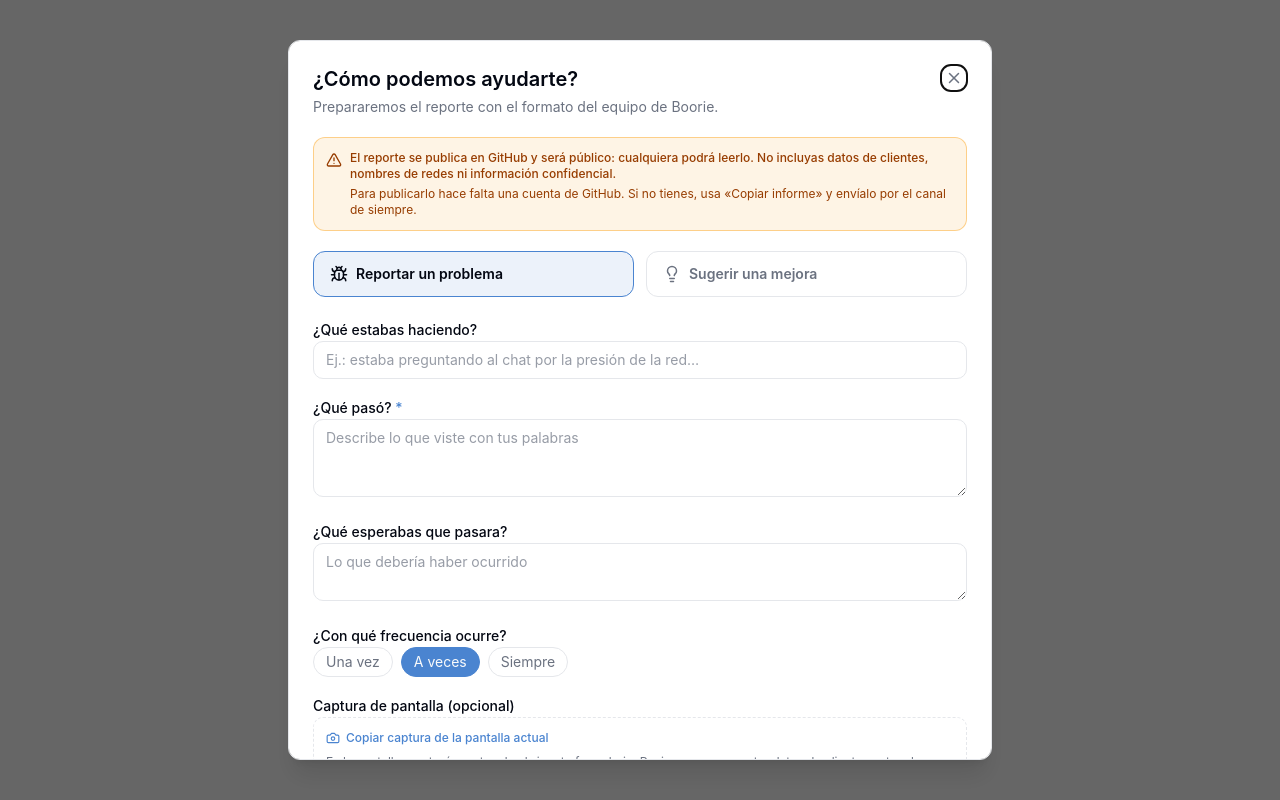
Test case: DialogoAyuda › «Abrir en GitHub» manda el formulario, la consentida y la pantalla de origen al main (R4, R10, R25)
Type "Abría una red" into the field with placeholder "Ej.: estaba preguntando al chat por la presión de la red…" at (640, 360), box left=313, top=341, right=967, bottom=379
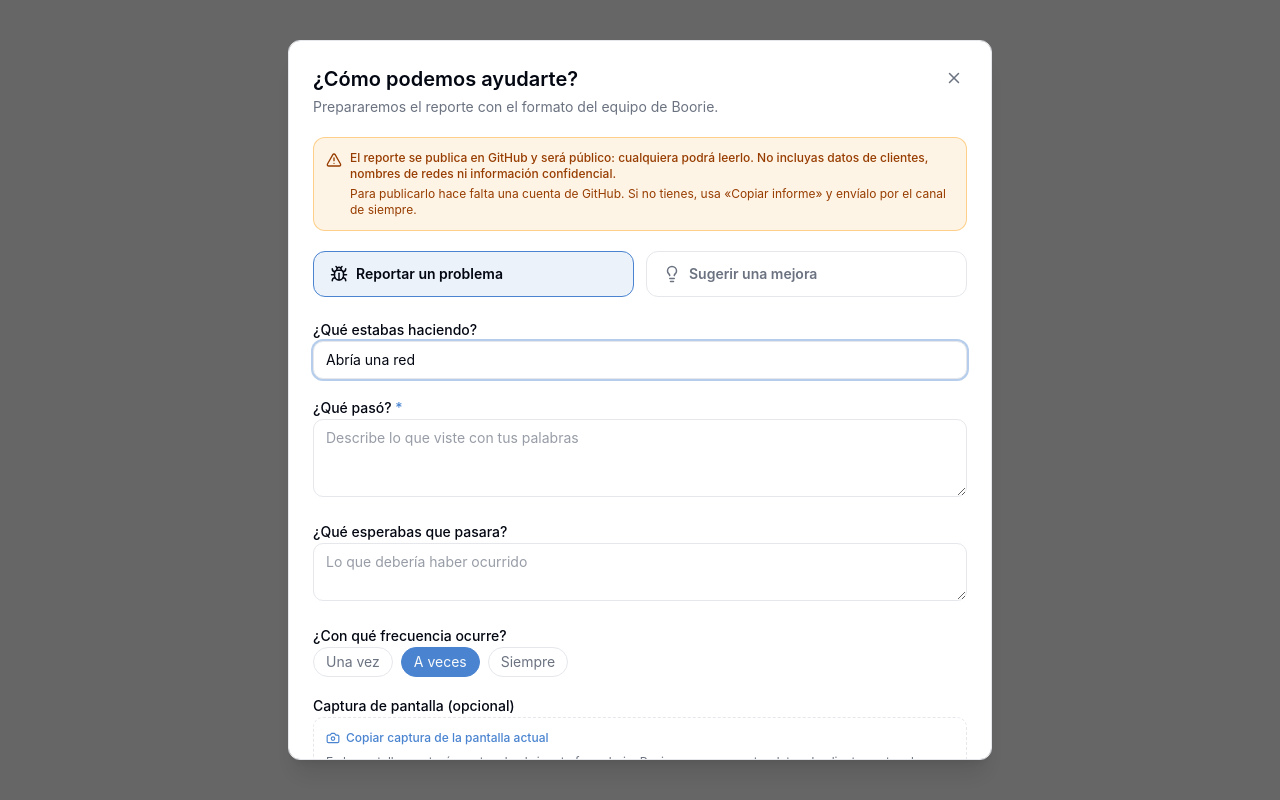
Type "Se cuelga" into the text box with placeholder "Describe lo que viste con tus palabras" at (640, 458), box left=313, top=419, right=967, bottom=497
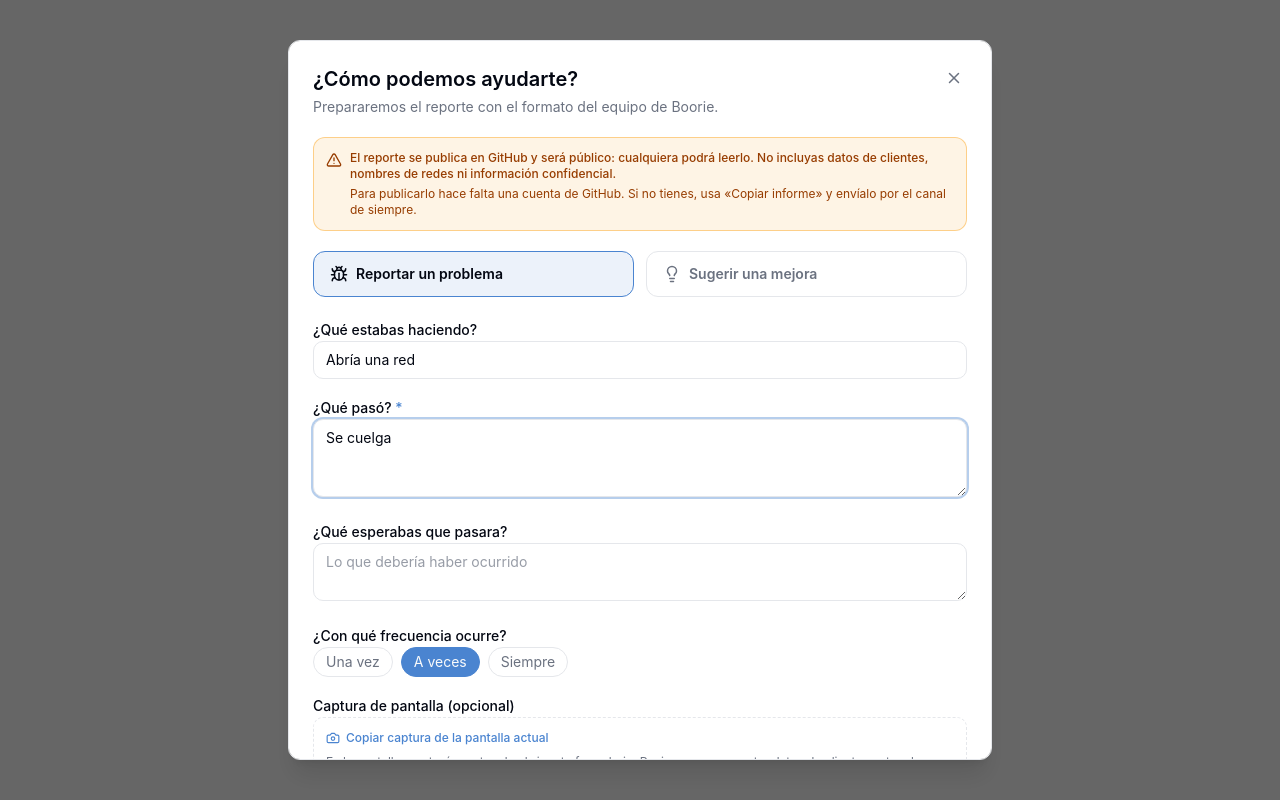
Type "Que abriera" into the text box with placeholder "Lo que debería haber ocurrido" at (640, 572), box left=313, top=543, right=967, bottom=601
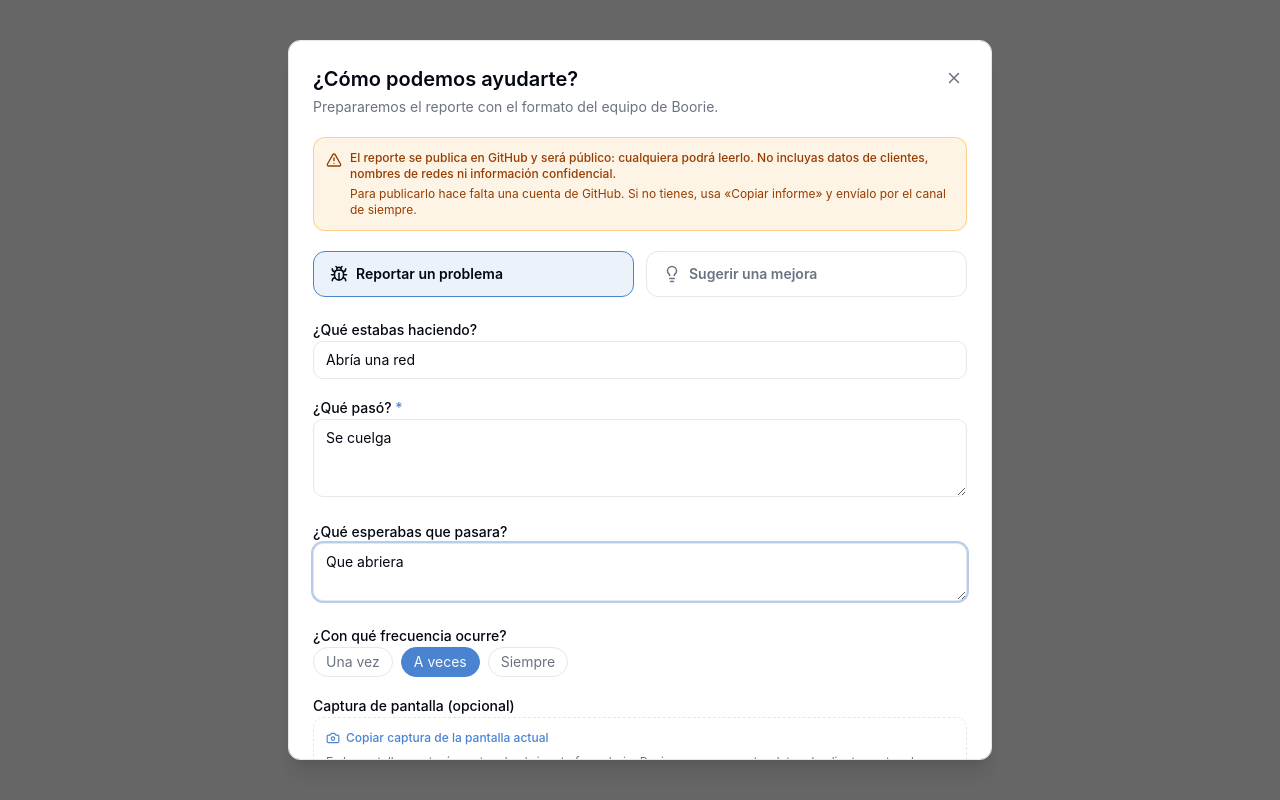
Click the radio button labelled "Siempre" at (528, 662), box left=488, top=647, right=568, bottom=677
(page scrolled)
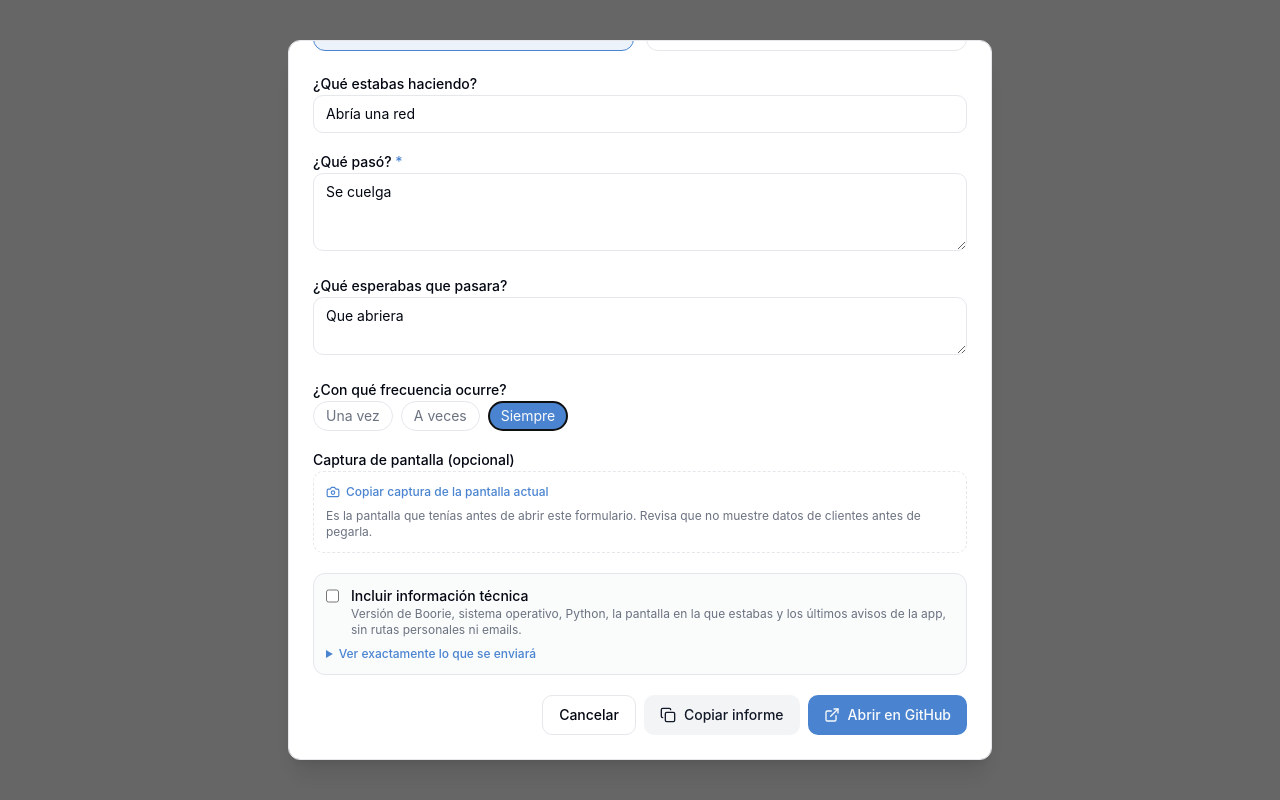
Click the checkbox labelled "Incluir información técnica" at (332, 596), box left=326, top=588, right=339, bottom=604
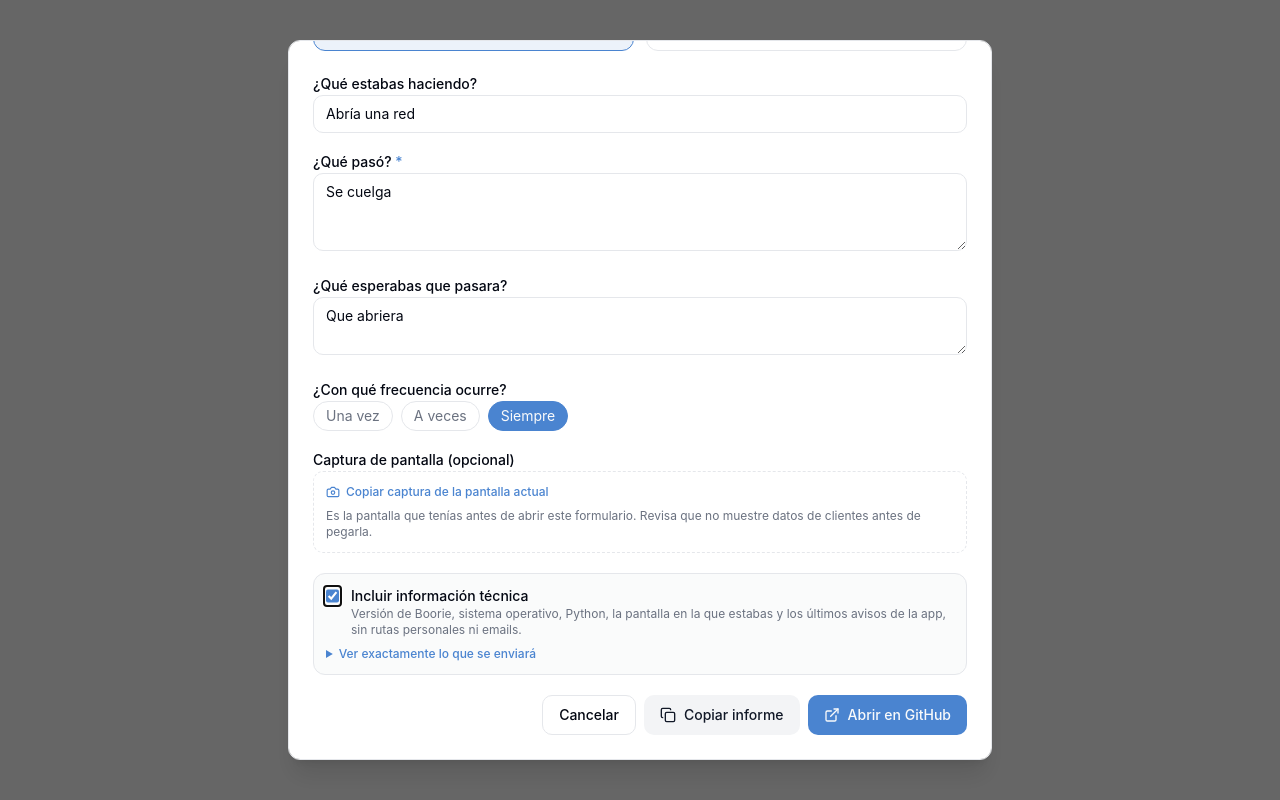
Click the button "Abrir en GitHub" at (887, 715), box left=808, top=695, right=967, bottom=735
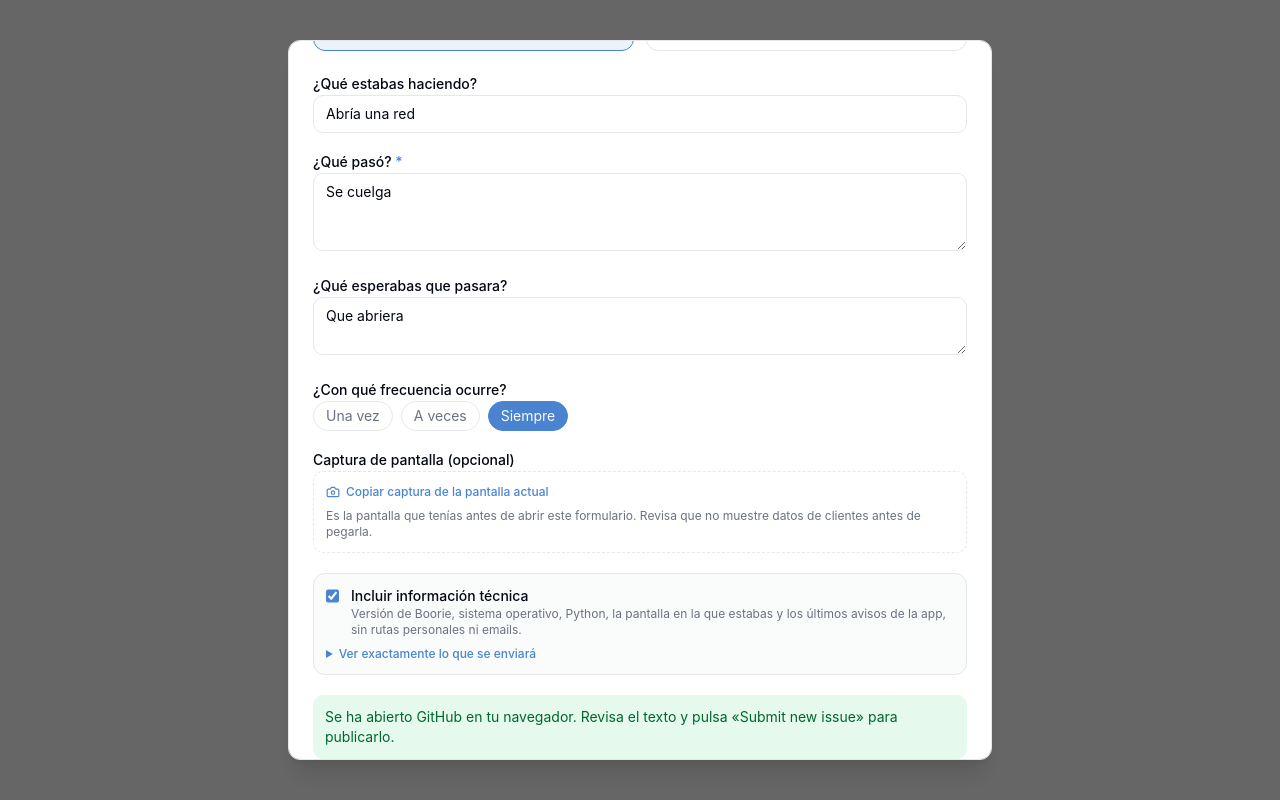
Check: the text "Se ha abierto GitHub en tu navegador. Revisa el texto y pulsa «Submit new issue» para publicarlo." is shown, box left=325, top=708, right=898, bottom=745
